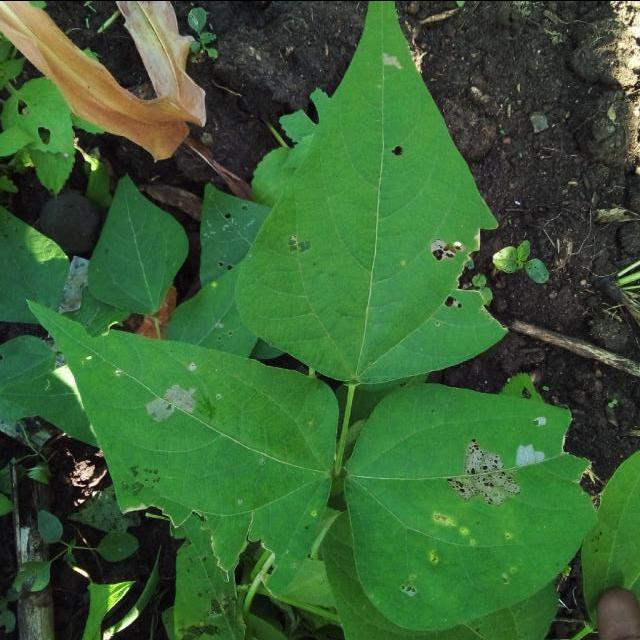mozaik: (295, 0, 576, 579)
